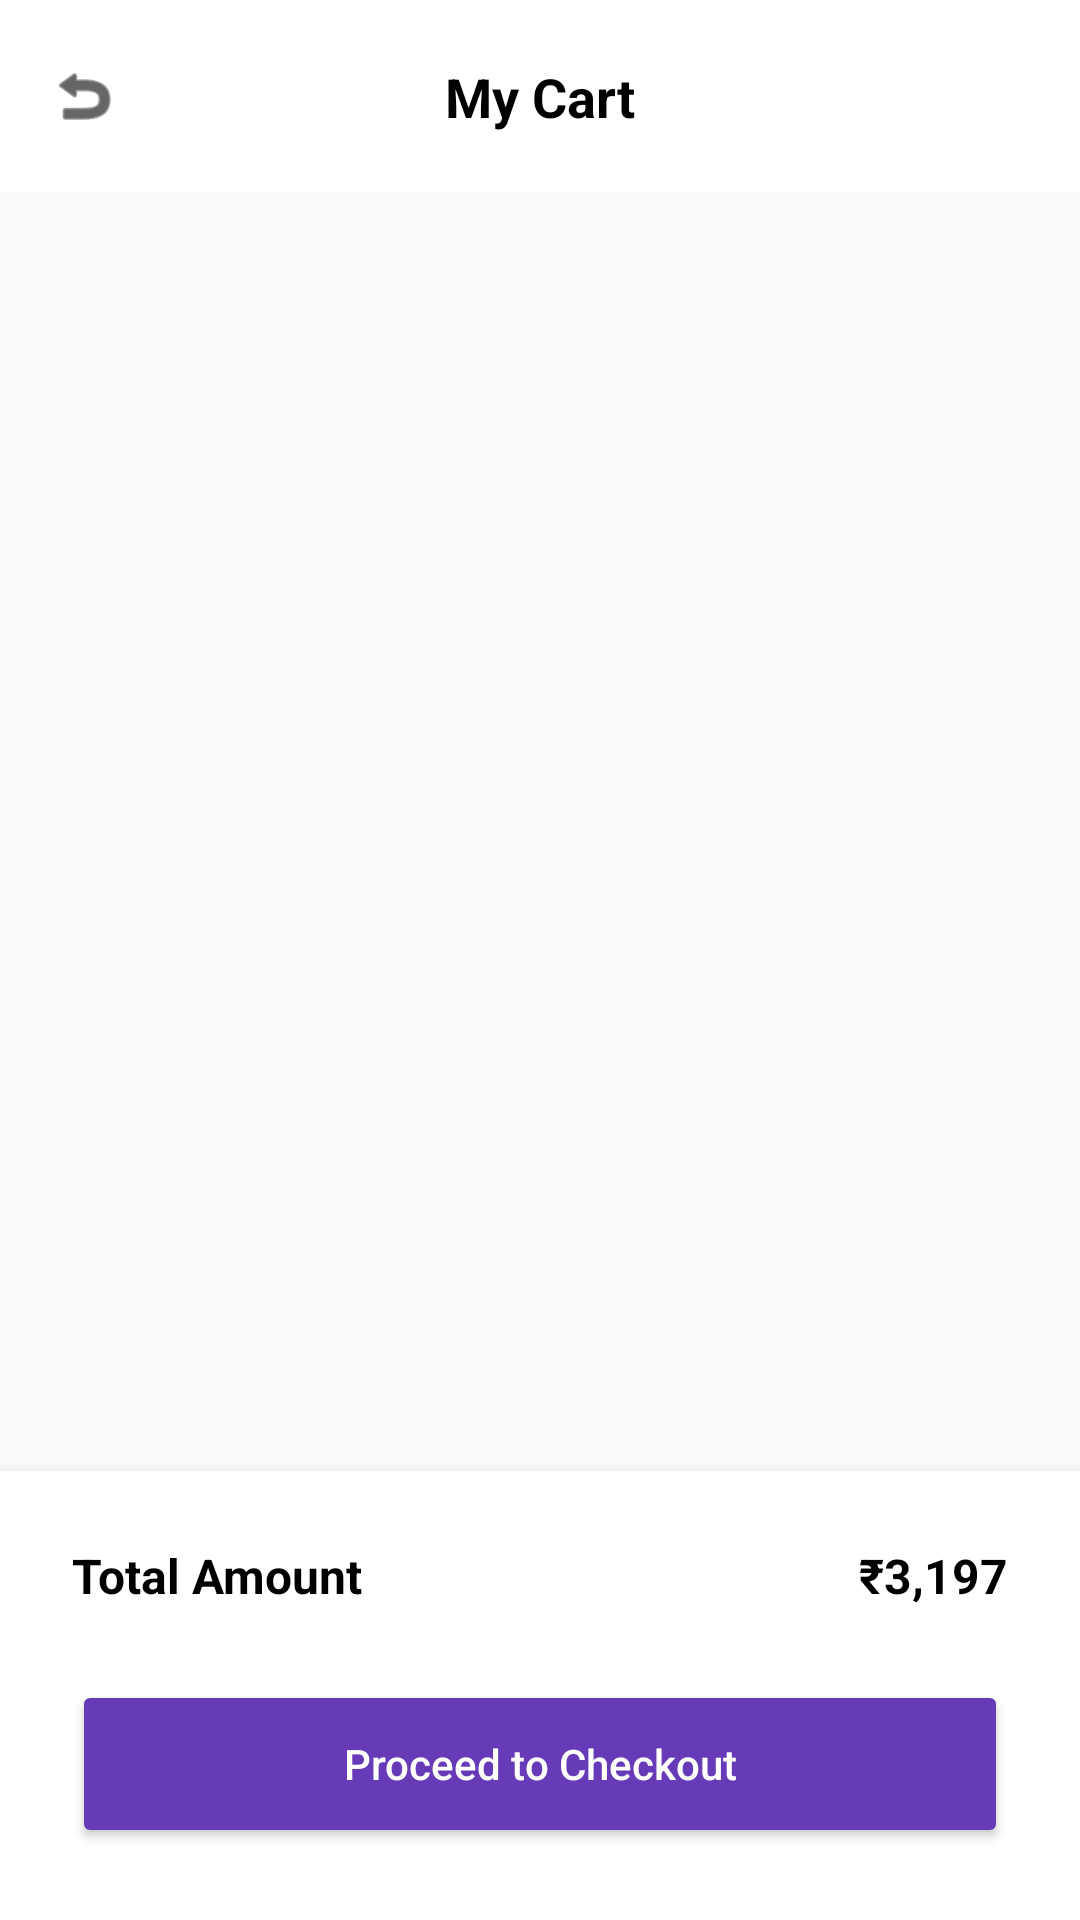

Icons on this 1080 x 1920 Android screen, each with the point to tap as (x,y):
revert: (85,96)
